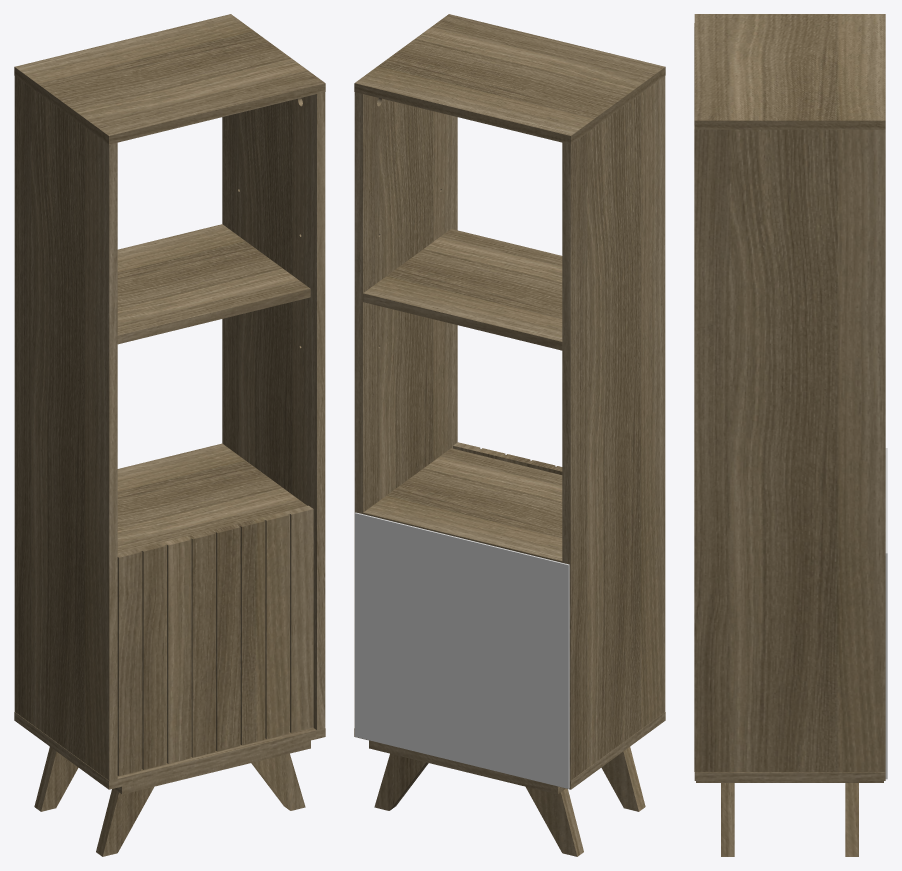
3 renders of one model, left to right at view 1: azimuth 30°, elevation 25°; view 2: azimuth 150°, elevation 25°; view 3: azimuth 270°, elevation 25°, orthographic.
Parts seen in each view (by area): view 1: Simetruc801353250-COSTADOSCO, A353250-PUERTASXPU, A353250-COSTADOSCO, A353250-TAPASXXXTA, A353250-ESTANTESMO, A353250-ESTANTESFI, A353250-PISOSXXXPI, Pata 124, Pata 121, A353250-PATASXXXBA, Pata 127; view 2: Simetruc801353250-COSTADOSCO, A353250-FONDOSXXMU, A353250-COSTADOSCO, A353250-TAPASXXXTA, A353250-ESTANTESMO, A353250-ESTANTESFI, Pata 127, Pata 130, A353250-PATASXXXBA, Pata 124, A353250-PISOSXXXPI, A353250-PUERTASXPU; view 3: A353250-COSTADOSCO, A353250-TAPASXXXTA, A353250-PISOSXXXPI, Pata 121, Pata 130, A353250-FONDOSXXMU.
Part boxes in pixels (left/top/right/bottom): Simetruc801353250-COSTADOSCO: left=14, top=76, right=117, bottom=780; A353250-PUERTASXPU: left=117, top=505, right=313, bottom=776; A353250-COSTADOSCO: left=222, top=92, right=325, bottom=730; A353250-TAPASXXXTA: left=14, top=14, right=325, bottom=144; A353250-ESTANTESMO: left=117, top=224, right=310, bottom=344; A353250-ESTANTESFI: left=117, top=443, right=307, bottom=553; A353250-PISOSXXXPI: left=14, top=712, right=325, bottom=789; Pata 124: left=96, top=787, right=153, bottom=856; Pata 121: left=251, top=753, right=305, bottom=810; A353250-PATASXXXBA: left=114, top=740, right=310, bottom=794; Pata 127: left=34, top=747, right=78, bottom=811; Simetruc801353250-COSTADOSCO: left=562, top=76, right=665, bottom=780; A353250-FONDOSXXMU: left=355, top=512, right=569, bottom=788; A353250-COSTADOSCO: left=354, top=92, right=457, bottom=727; A353250-TAPASXXXTA: left=354, top=14, right=665, bottom=144; A353250-ESTANTESMO: left=363, top=229, right=562, bottom=350; A353250-ESTANTESFI: left=363, top=448, right=562, bottom=562; Pata 127: left=526, top=787, right=583, bottom=856; Pata 130: left=374, top=753, right=428, bottom=810; A353250-PATASXXXBA: left=369, top=740, right=565, bottom=794; Pata 124: left=601, top=747, right=645, bottom=811; A353250-PISOSXXXPI: left=354, top=712, right=665, bottom=789; A353250-PUERTASXPU: left=453, top=442, right=562, bottom=474; A353250-COSTADOSCO: left=694, top=125, right=885, bottom=771; A353250-TAPASXXXTA: left=694, top=14, right=885, bottom=129; A353250-PISOSXXXPI: left=694, top=772, right=885, bottom=780; Pata 121: left=721, top=783, right=734, bottom=856; Pata 130: left=845, top=783, right=858, bottom=856; A353250-FONDOSXXMU: left=885, top=448, right=887, bottom=779.
Bounding box in the file's own units: 0.39 × 1.26 × 0.298.
1 material, 1 textured.
